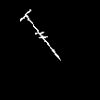treble_crochet: (20, 10, 59, 58)
